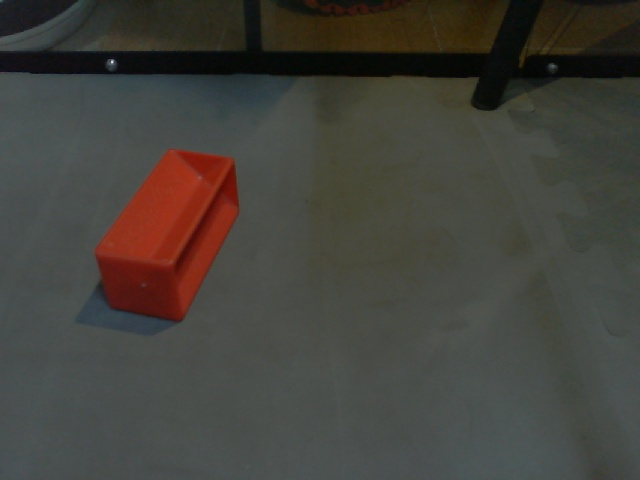RedSample: (93, 148, 241, 328)
